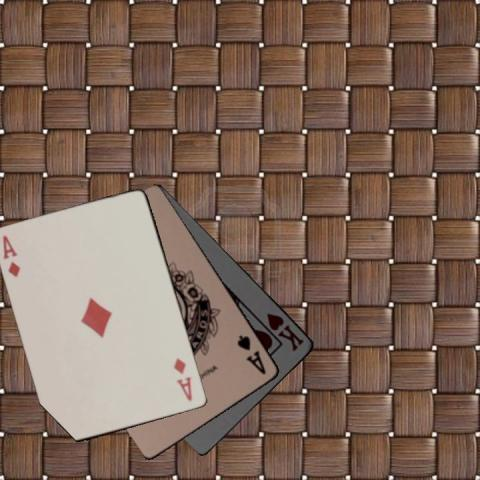Ad: (171, 355, 194, 403), (0, 232, 22, 279)
As: (234, 332, 268, 376)
Kh: (263, 310, 306, 353)
